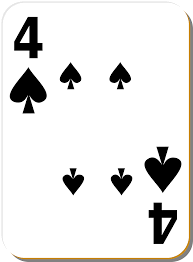four of spades: (5, 3, 190, 258)
